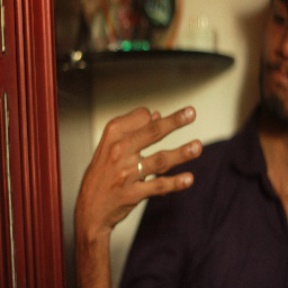K: (83, 103, 203, 208)
